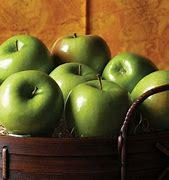apple: (0, 71, 65, 136), (65, 79, 133, 140), (0, 35, 52, 81), (55, 33, 113, 72), (102, 50, 159, 87)
